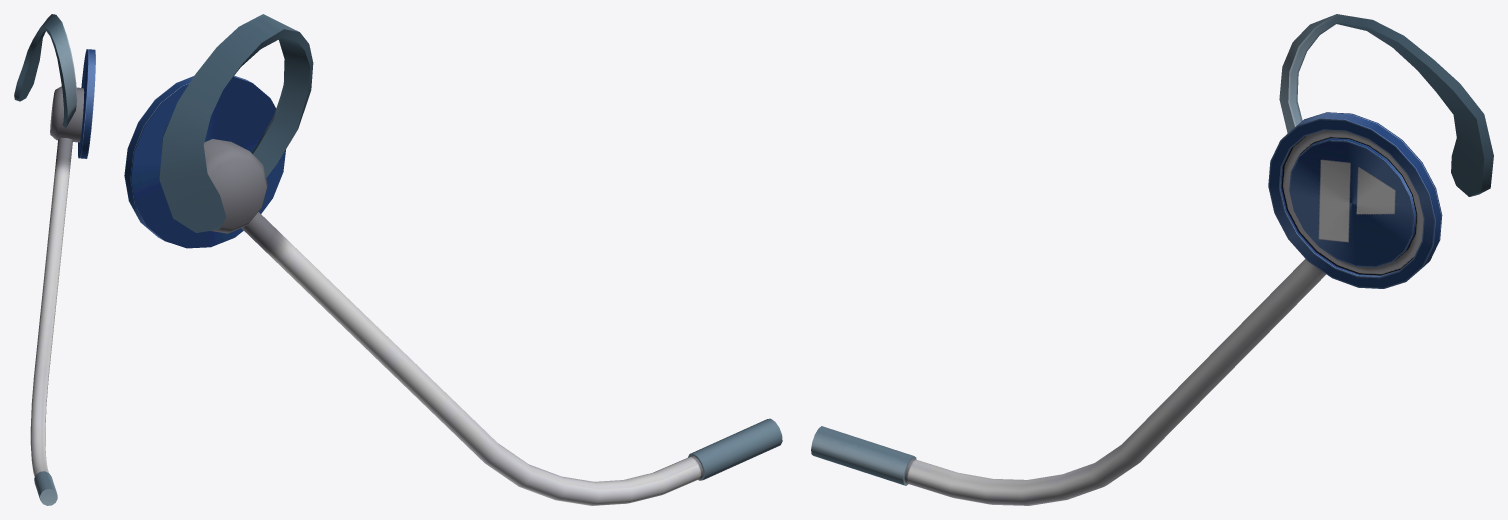
The model's file is EntrainingIntercomKohaku.fbx.
3 views of the same model, side by side, from view 1: azimuth 30°, elevation 25°; view 2: azimuth 150°, elevation 25°; view 3: azimuth 270°, elevation 25° (orthographic). The views are drawn at different scales.
Visible parts, largest first — view 1: EntrainingIntercomKohaku; view 2: EntrainingIntercomKohaku; view 3: EntrainingIntercomKohaku.
Boxes of the visible parts, x1,y1,x2,y2 form: EntrainingIntercomKohaku: [14, 14, 95, 505]; EntrainingIntercomKohaku: [124, 14, 782, 505]; EntrainingIntercomKohaku: [811, 14, 1493, 505].
Size of the model in its own units: 0.0523 by 0.0756 by 0.0788.
Materials: 1 (1 with a texture image).
